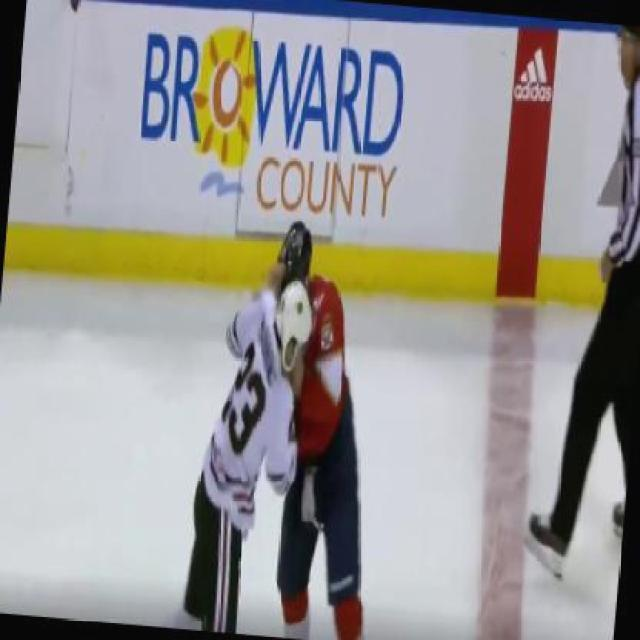fight: (181, 211, 397, 638)
